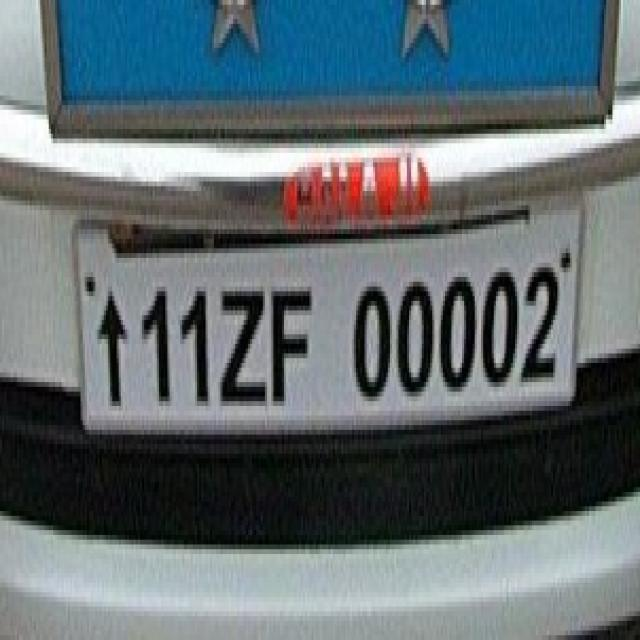0: (435, 264, 475, 402), (396, 278, 438, 403), (479, 259, 518, 391), (355, 272, 393, 406)
1: (140, 286, 172, 424), (180, 271, 212, 408)
F: (269, 274, 315, 413)
Z: (215, 271, 268, 413)
